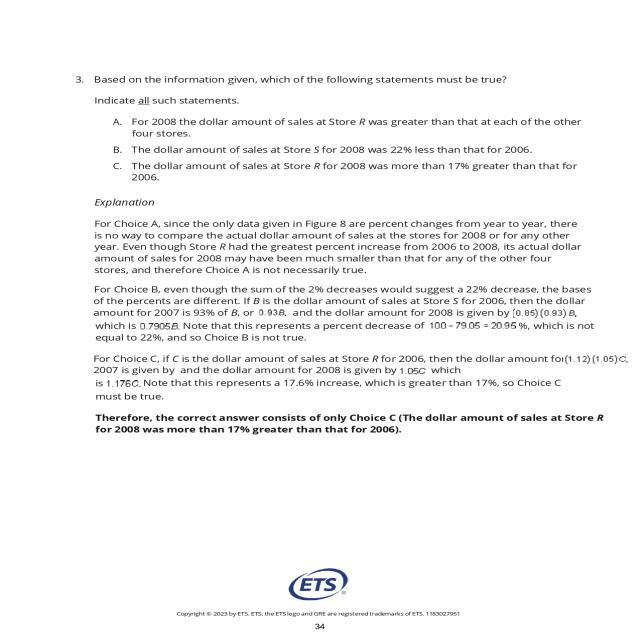Answer_Block: (48, 115, 632, 186)
Description: (48, 187, 632, 458)
Question_Answer_Block: (48, 60, 632, 186)
Question_Block: (48, 60, 632, 110)
Question_Paper_Area: (48, 60, 632, 459)
